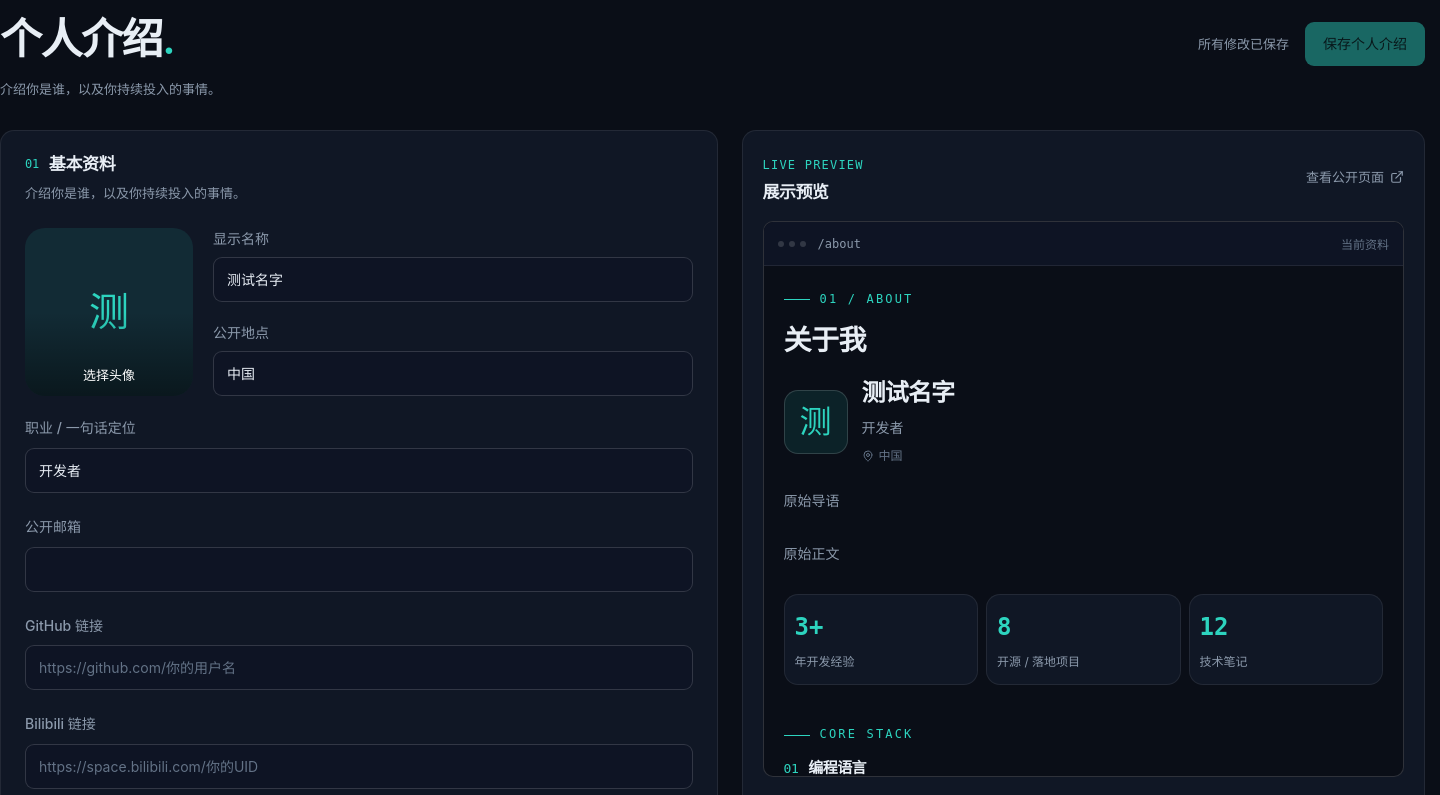
个人介绍编辑与预览 › 有修改才显示撤销和放弃，撤销逐步恢复最后修改及预览
This screenshot has width=1440, height=795.
expect the button "撤销" is not shown: met
expect the button "放弃修改" is not shown: met
Replace the text in the field labelled "显示名称" with "修改名字" at {"x": 453, "y": 279}, box [213, 257, 693, 302]
(page scrolled)
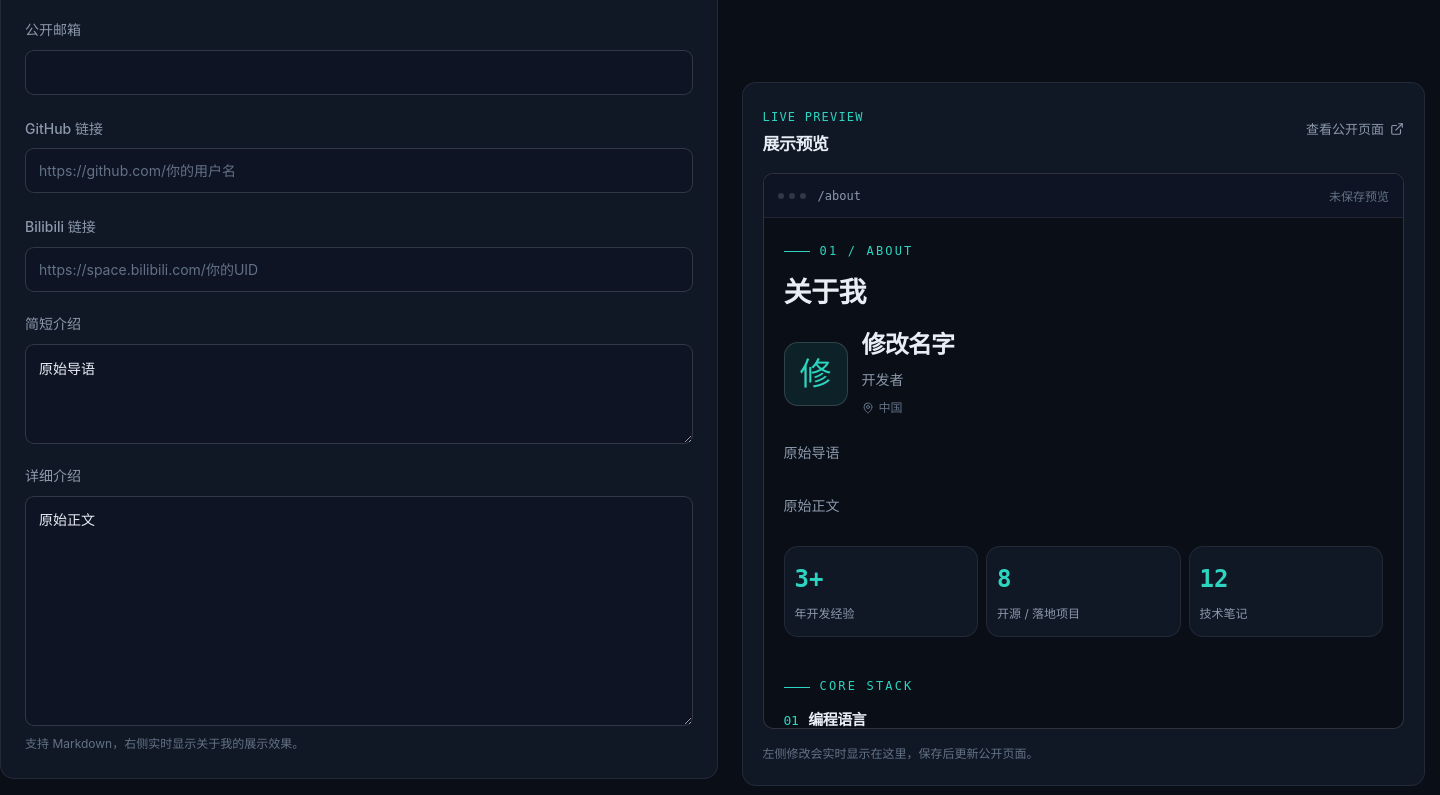
Replace the text in the text box labelled "简短介绍" with "修改导语" at {"x": 359, "y": 394}, box [25, 344, 693, 444]
(page scrolled)
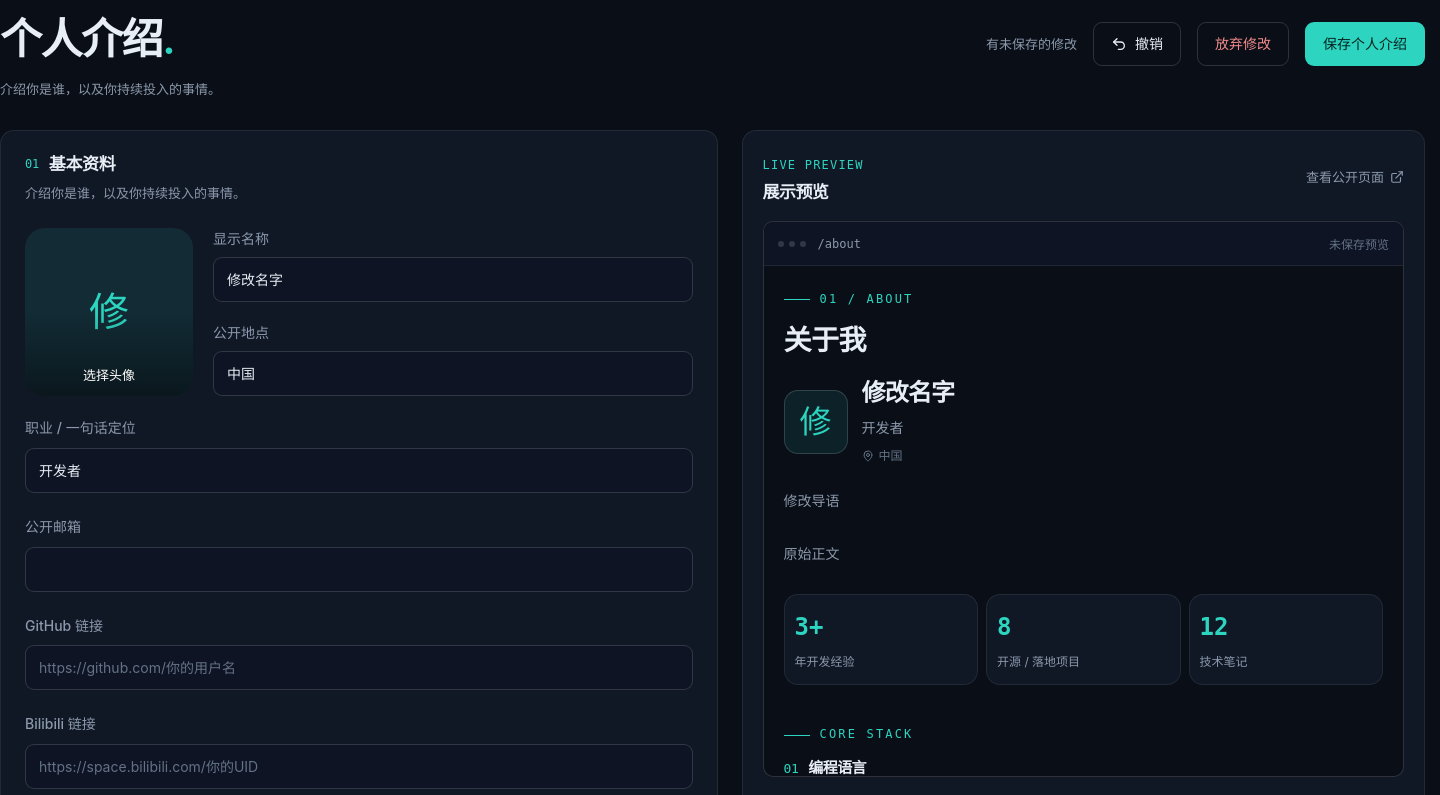
Click the button "撤销" at {"x": 1137, "y": 44}, box [1093, 22, 1181, 66]
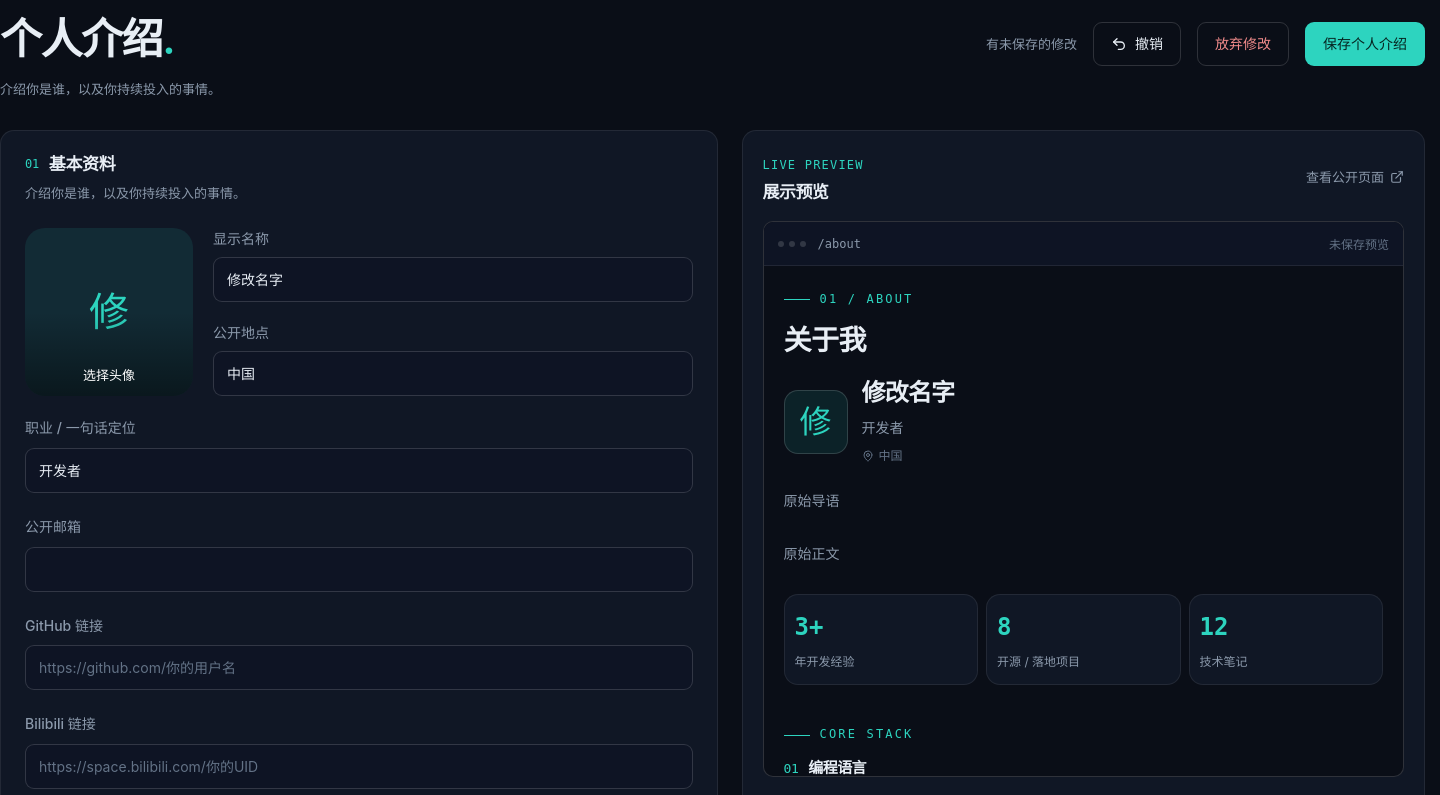
expect the heading "修改名字" is shown: met, box [862, 378, 954, 408]
Click the button "撤销" at {"x": 1137, "y": 44}, box [1093, 22, 1181, 66]
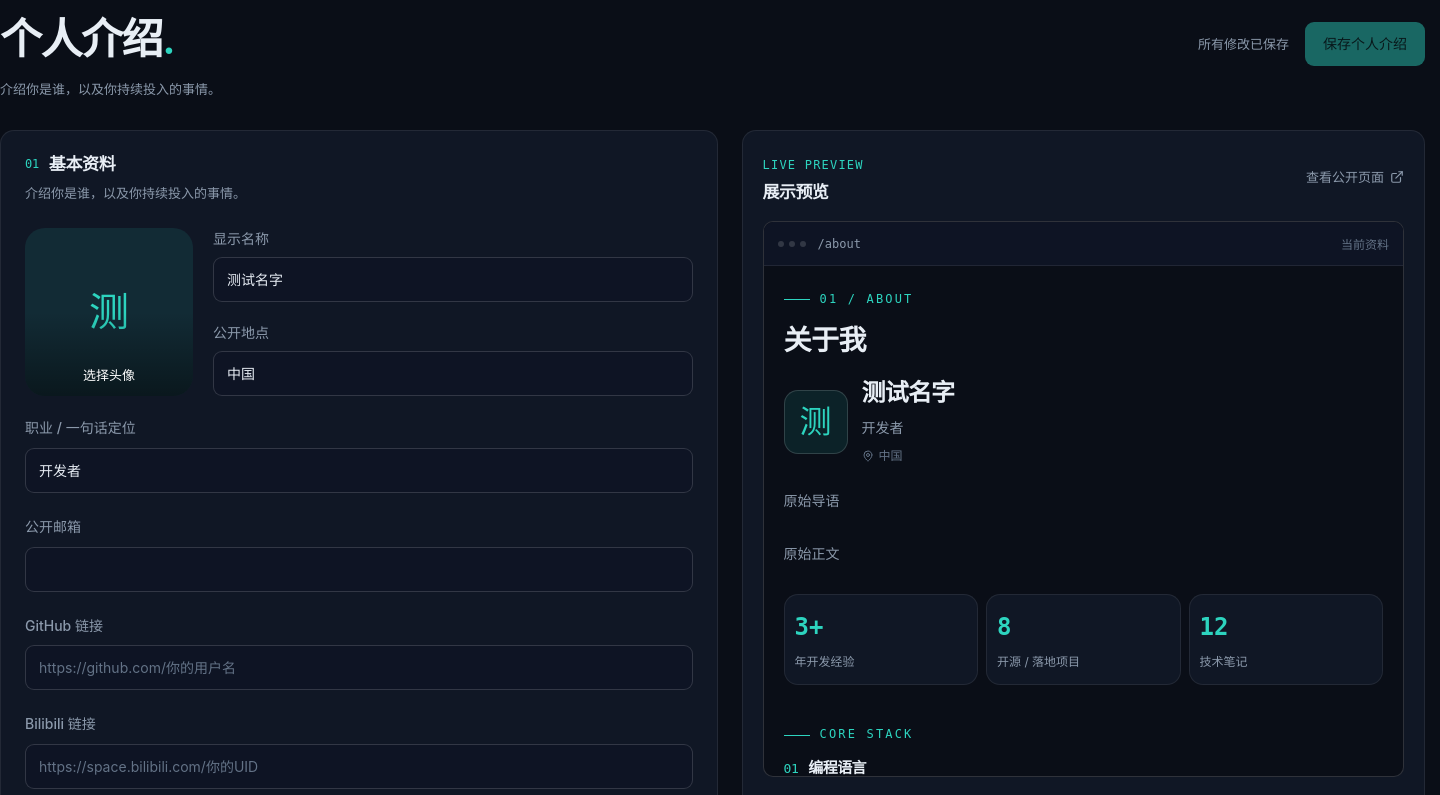
expect the field labelled "显示名称" holds "测试名字": met, box [213, 257, 693, 302]
expect the button "撤销" is gone: met
expect the text "所有修改已保存" is shown: met, box [1198, 33, 1289, 55]
